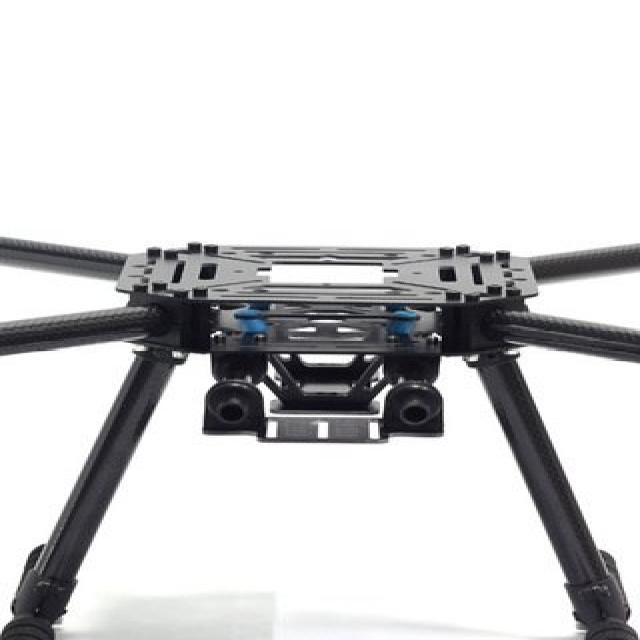drone: (0, 180, 640, 540)
